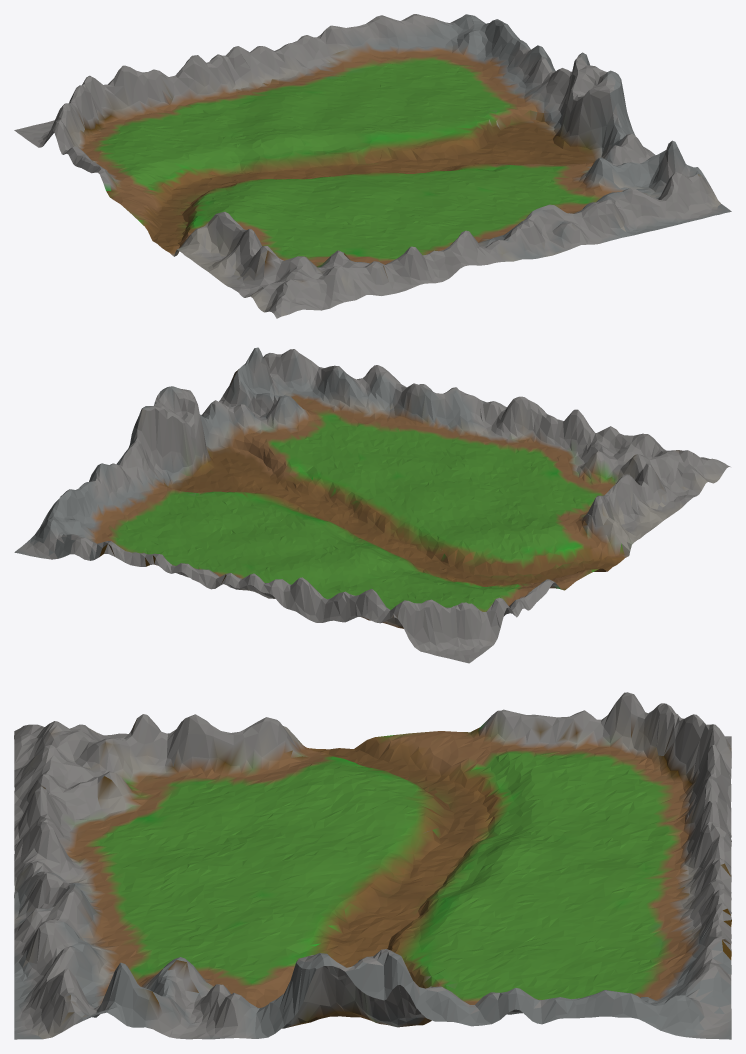
The model's file is terrain_blender.fbx.
The picture shows the model from 3 angles, top to bottom: view 1: azimuth 30°, elevation 25°; view 2: azimuth 150°, elevation 25°; view 3: azimuth 270°, elevation 25°; orthographic projection. The views are drawn at different scales.
Parts seen in each view (by area): view 1: Terrain_unity.001; view 2: Terrain_unity.001; view 3: Terrain_unity.001.
Part boxes in pixels (<box>): Terrain_unity.001: <box>14,14,731,318</box>; Terrain_unity.001: <box>14,347,730,663</box>; Terrain_unity.001: <box>14,692,731,1039</box>.
Bounding box in the file's own units: 50050 × 7160 × 50051.
